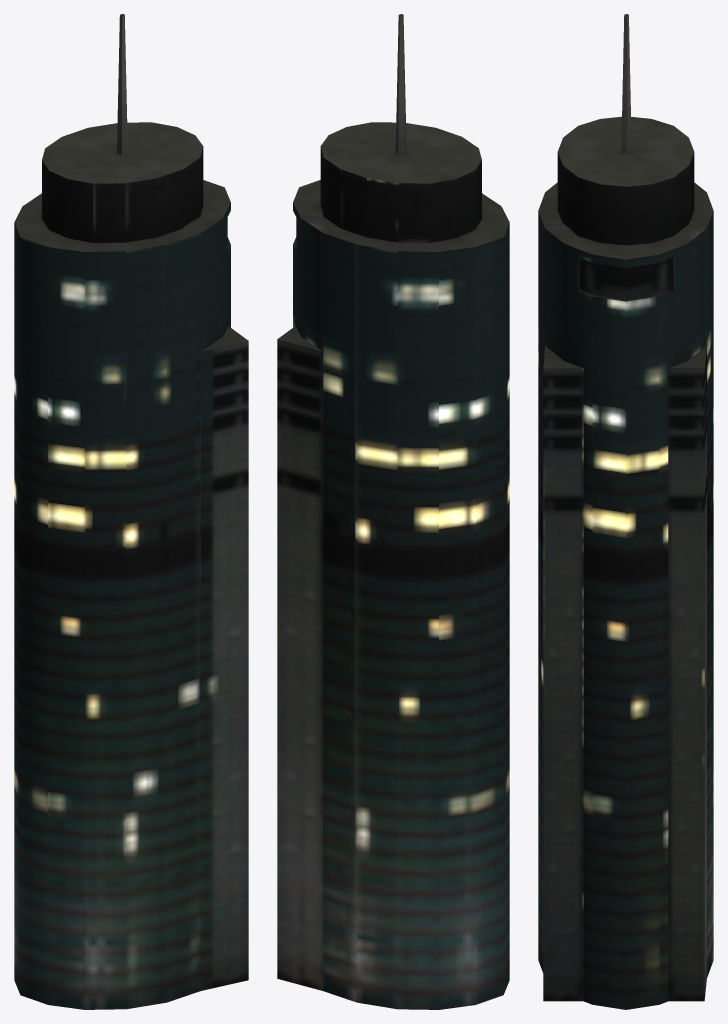
Rendered from background_buildings_1.001_background_buildings_1_0_lev3.glb.
3 renders of one model, left to right at view 1: azimuth 30°, elevation 25°; view 2: azimuth 150°, elevation 25°; view 3: azimuth 270°, elevation 25°, orthographic.
Parts seen in each view (by area): view 1: background_buildings_1.001_background_buildings_1_0_lev3; view 2: background_buildings_1.001_background_buildings_1_0_lev3; view 3: background_buildings_1.001_background_buildings_1_0_lev3.
Boxes of the visible parts, left/top/right/bottom form: background_buildings_1.001_background_buildings_1_0_lev3: left=14, top=14, right=248, bottom=1009; background_buildings_1.001_background_buildings_1_0_lev3: left=277, top=14, right=509, bottom=1009; background_buildings_1.001_background_buildings_1_0_lev3: left=538, top=14, right=713, bottom=1009.
Bounding box in the file's own units: 6.55 × 29.26 × 4.91.
1 material, 1 textured.
